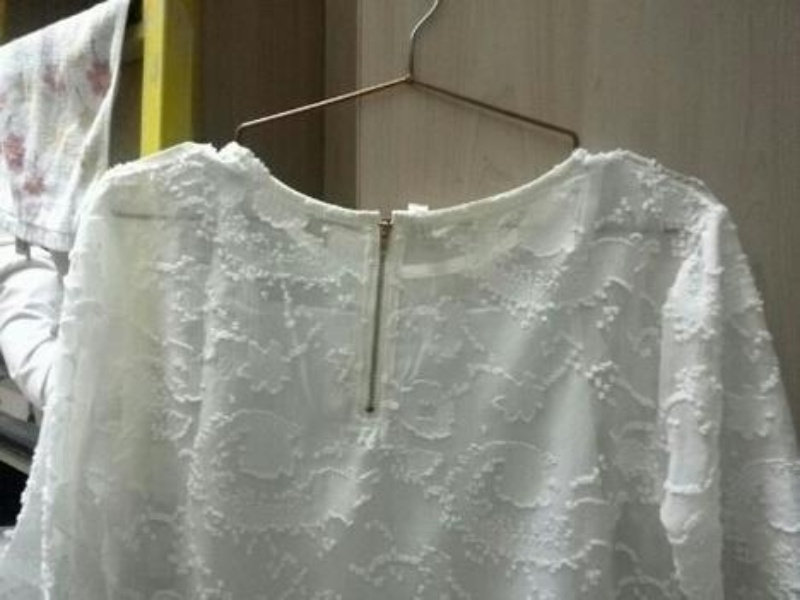long_sleeved_shirt: (2, 140, 798, 598)
